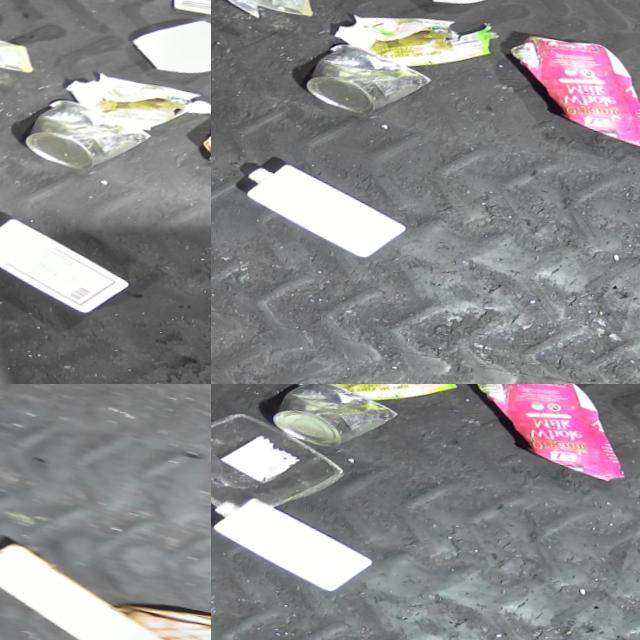can: (13, 85, 167, 179), (306, 36, 444, 122), (271, 384, 409, 456)
milk_jug: (234, 154, 427, 262), (211, 485, 391, 596)
non_white_jug: (211, 61, 235, 177)
